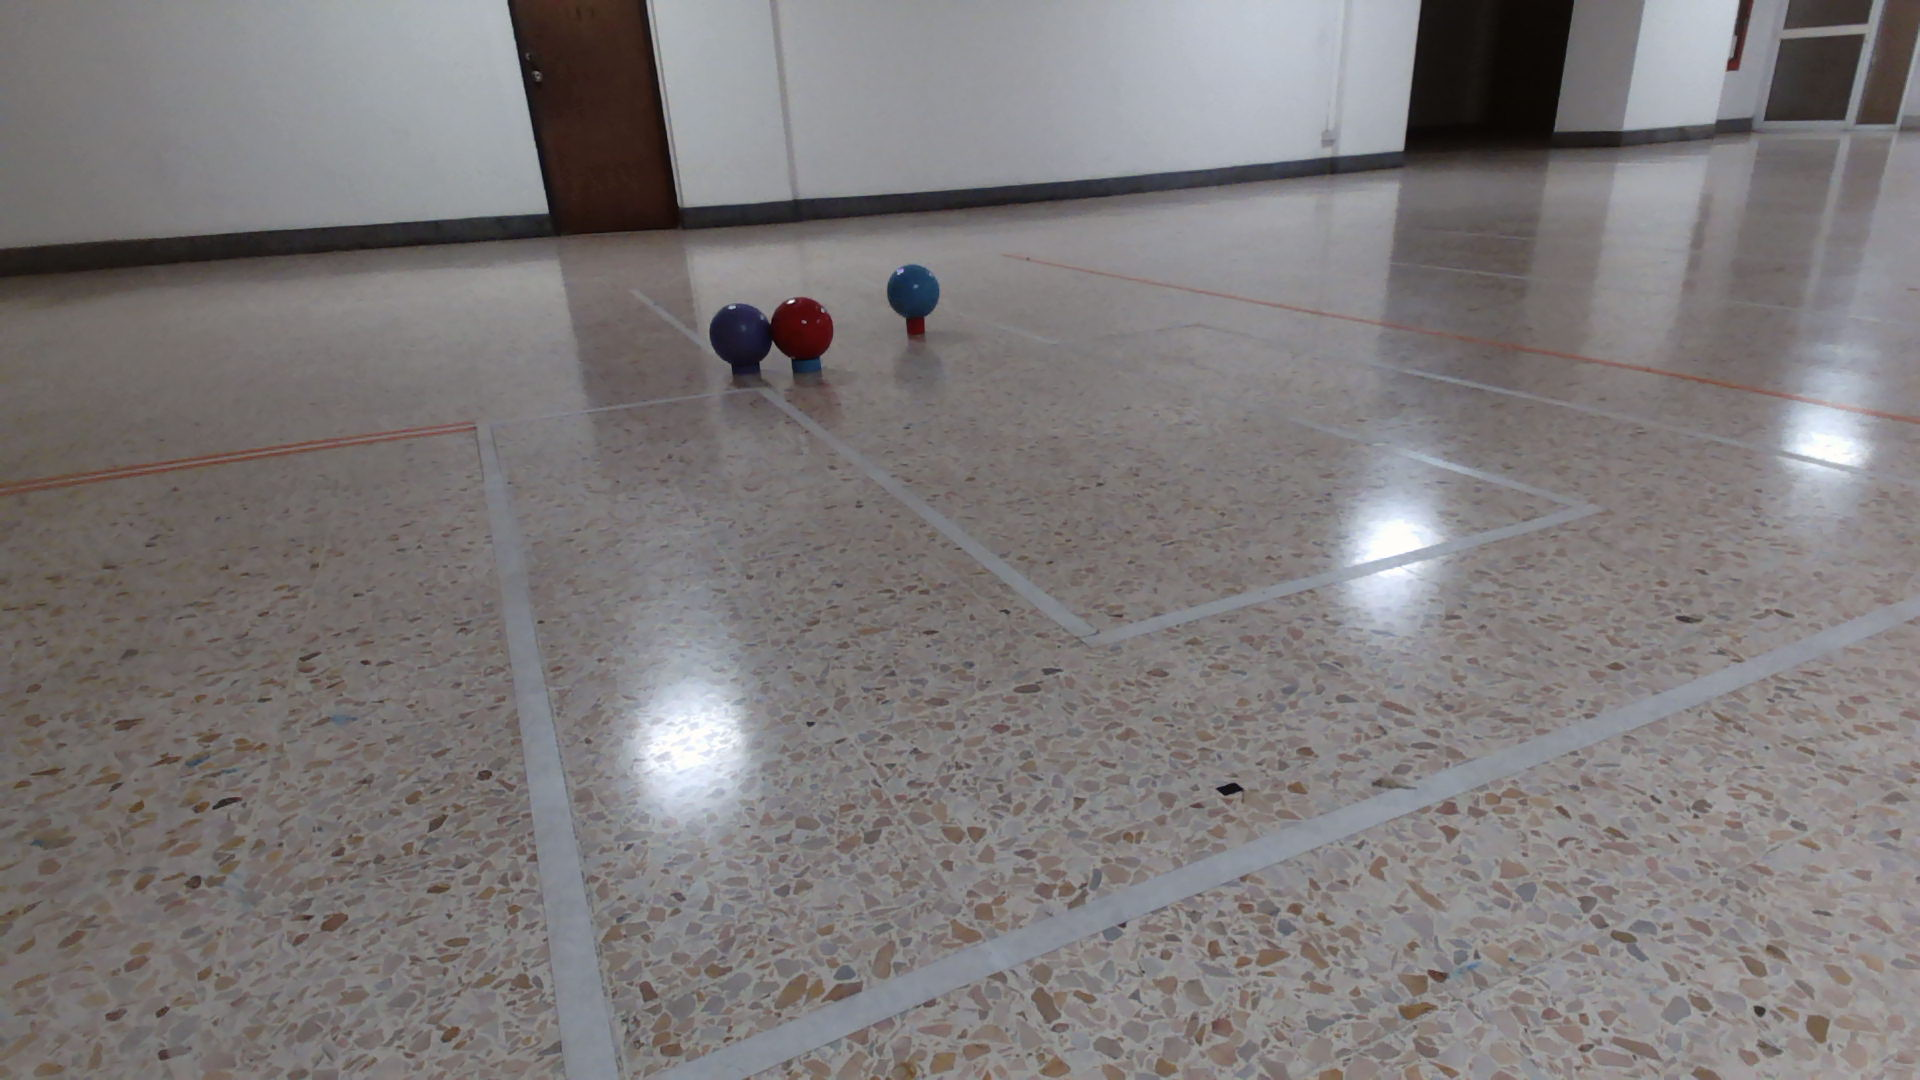Blue ball: (885, 262, 942, 320)
Purple ball: (708, 301, 773, 367)
Red ball: (771, 295, 835, 360)
